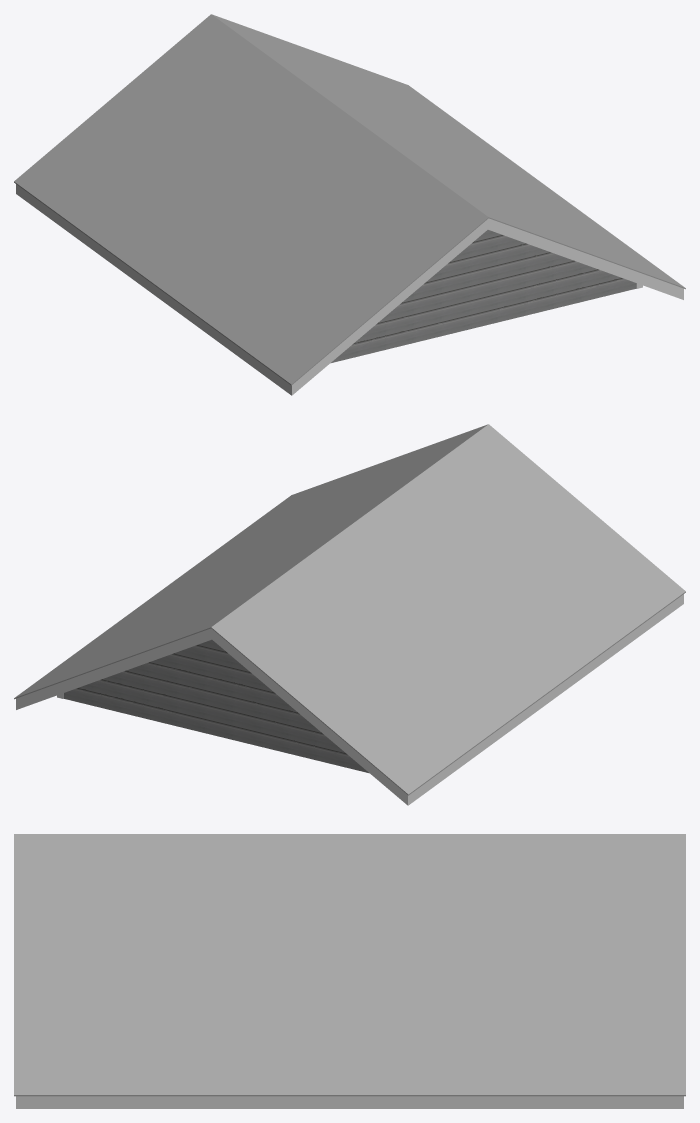
Rendered from gable.glb.
3 renders of one model, top to bottom at view 1: azimuth 30°, elevation 25°; view 2: azimuth 150°, elevation 25°; view 3: azimuth 270°, elevation 25°, orthographic. The views are drawn at different scales.
Visible parts, largest first — view 1: Roof_Top_2, Roof_exterior, Roof_Siding_2; view 2: Roof_Top_2, Roof_exterior, Roof_Siding_2; view 3: Roof_Top_2, Roof_Siding_2.
Part boxes in pixels (x1,y1,x2,y2): Roof_Top_2: [14, 14, 685, 385]; Roof_exterior: [330, 230, 636, 363]; Roof_Siding_2: [16, 184, 683, 395]; Roof_Top_2: [14, 424, 685, 795]; Roof_exterior: [63, 639, 369, 773]; Roof_Siding_2: [16, 594, 683, 805]; Roof_Top_2: [14, 834, 685, 1096]; Roof_Siding_2: [16, 1096, 683, 1108].
Size of the model in its own units: 7.07 by 2.25 by 8.61.
Materials: 7 (2 with a texture image).
